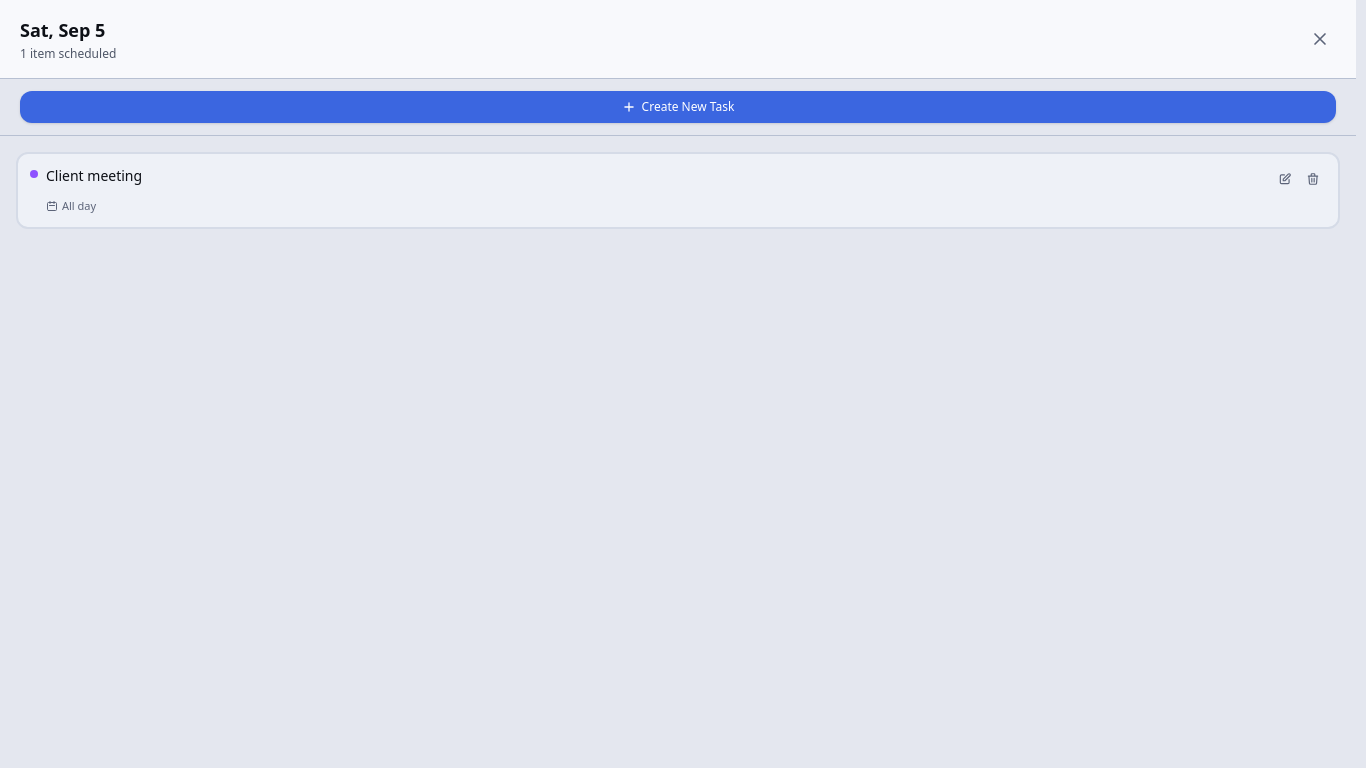
Test: keeps a synced all-day date unchanged in its detail popup
Step 1. Click the heading "Client meeting" → (94, 176), box [46,166,142,186]
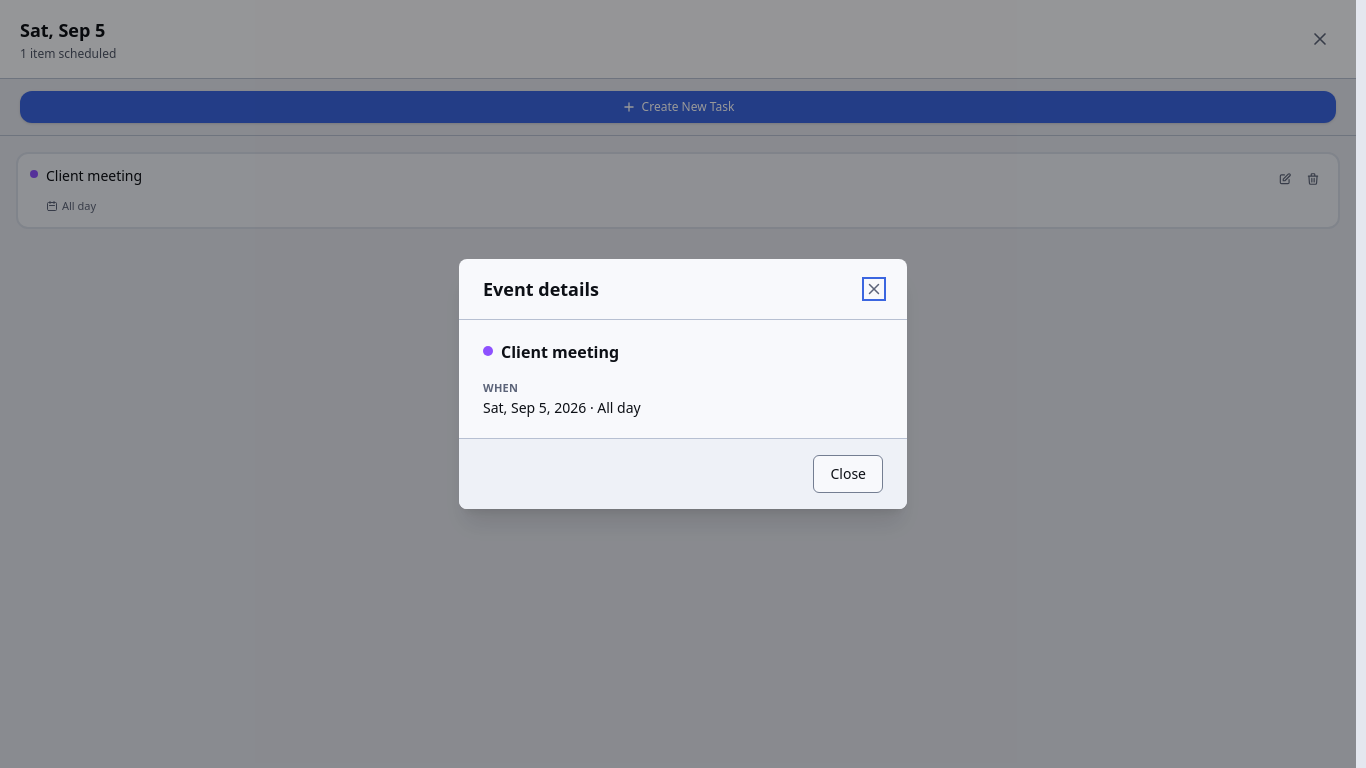
Now the text "Sat, Sep 5, 2026 · All day" is shown, box [483,398,641,417]
